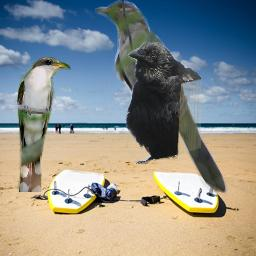Crow: (123, 41, 201, 164)
Cuckoo: (95, 0, 233, 196), (16, 56, 71, 192)
